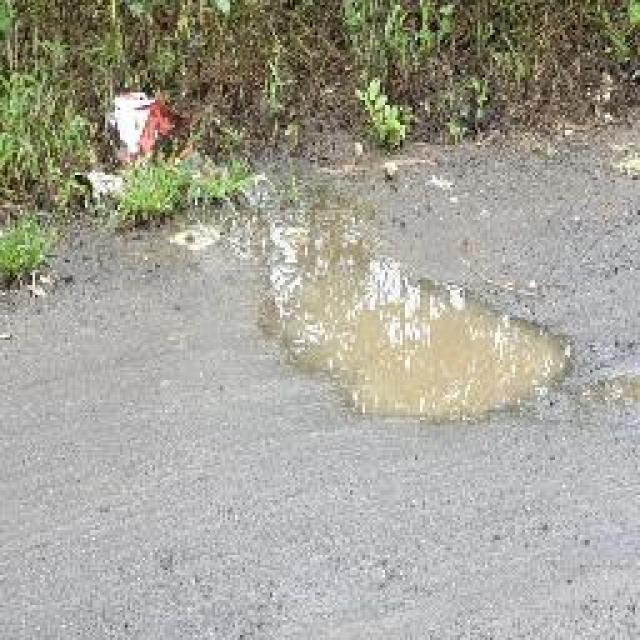puddle: (259, 207, 559, 426)
